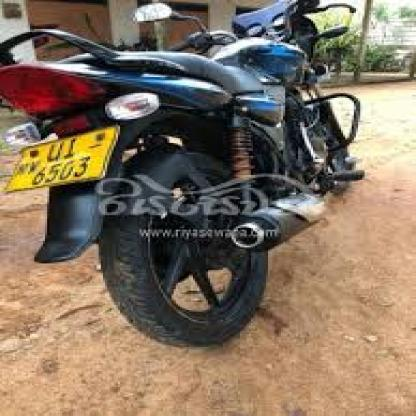bike back: (4, 0, 369, 350)
number plate: (0, 133, 105, 190)
